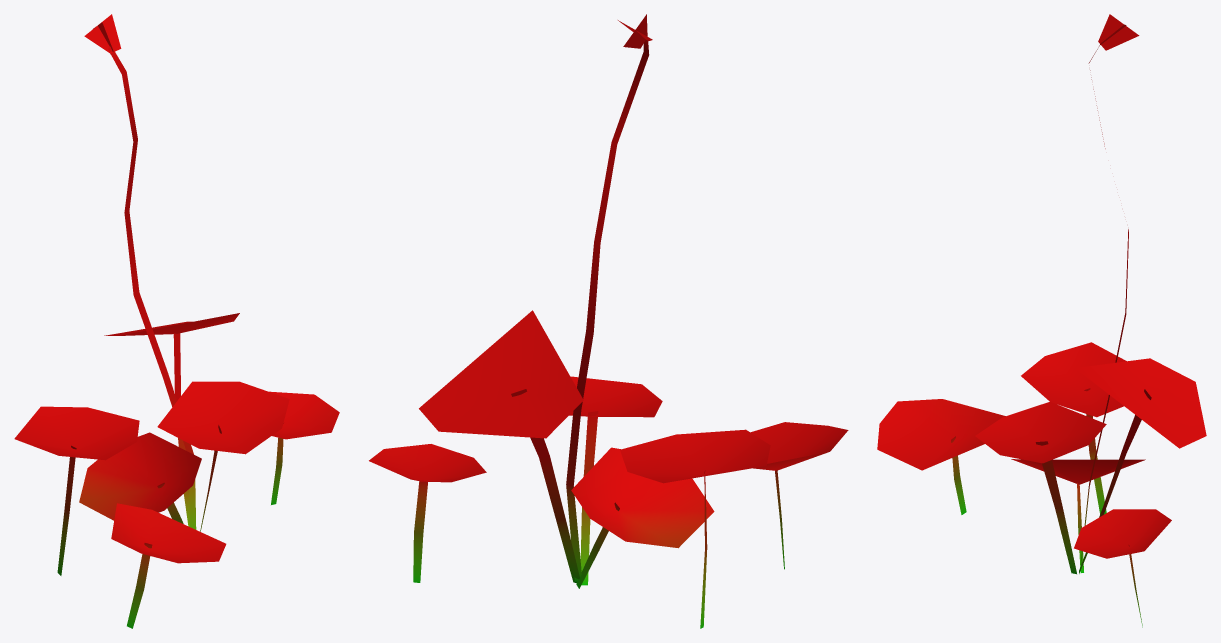
Rendered from Native Violet_LOD4_Var23_ultkcfeja.fbx.
3 views of the same model, side by side, from view 1: azimuth 30°, elevation 25°; view 2: azimuth 150°, elevation 25°; view 3: azimuth 270°, elevation 25° (orthographic). The views are drawn at different scales.
Visible parts, largest first — view 1: _u721_Var23_LOD4; view 2: _u721_Var23_LOD4; view 3: _u721_Var23_LOD4.
Boxes of the visible parts, x1=… form: _u721_Var23_LOD4: x1=14, y1=14, x2=339, y2=628; _u721_Var23_LOD4: x1=369, y1=14, x2=848, y2=628; _u721_Var23_LOD4: x1=877, y1=14, x2=1206, y2=627.
Size of the model in its own units: 13.7 by 21.25 by 12.08.
